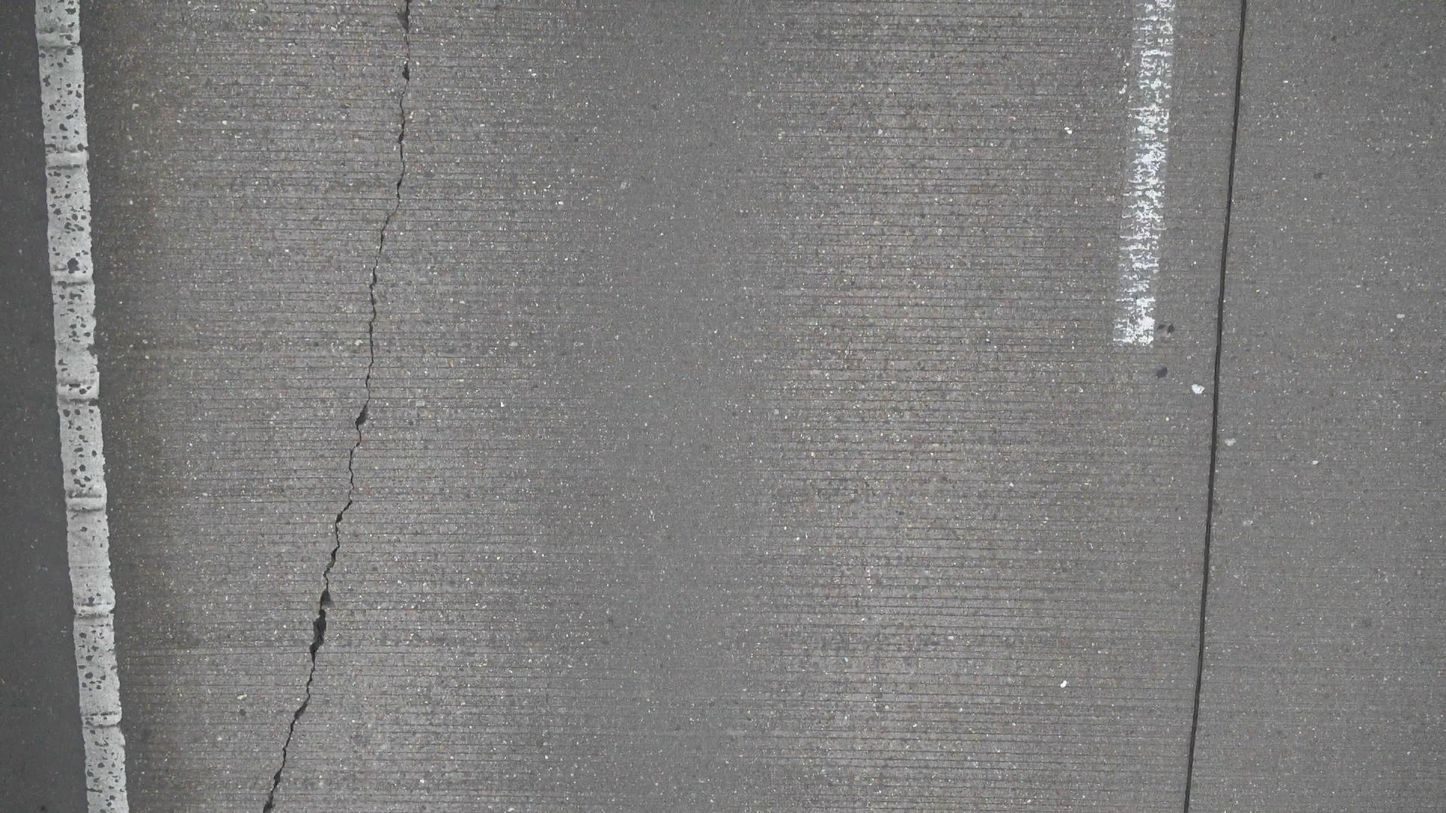GRIETA: (263, 56, 410, 812), (1182, 0, 1247, 812)
